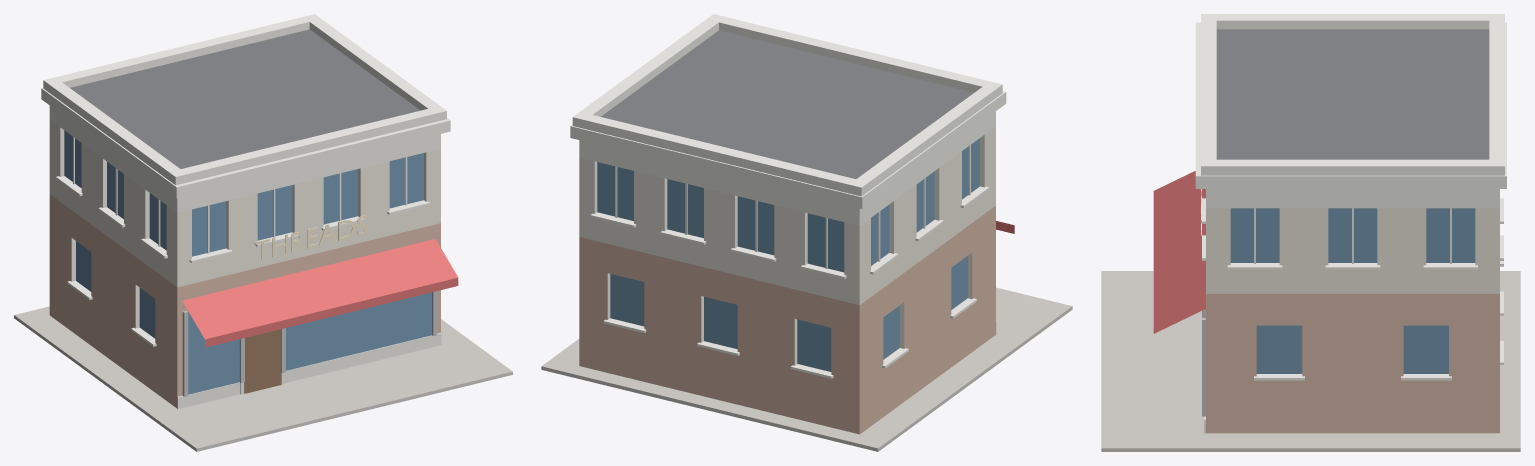
The model's file is clothing_shop.glb.
3 views of the same model, side by side, from view 1: azimuth 30°, elevation 25°; view 2: azimuth 150°, elevation 25°; view 3: azimuth 270°, elevation 25° (orthographic). The views are drawn at different scales.
Parts seen in each view (by area): view 1: clothing_shop; view 2: clothing_shop; view 3: clothing_shop.
Boxes of the visible parts, <box> form: clothing_shop: <box>14,14,512,451</box>; clothing_shop: <box>541,14,1072,451</box>; clothing_shop: <box>1101,14,1520,451</box>.
Size of the model in its own units: 12 by 8.62 by 12.
